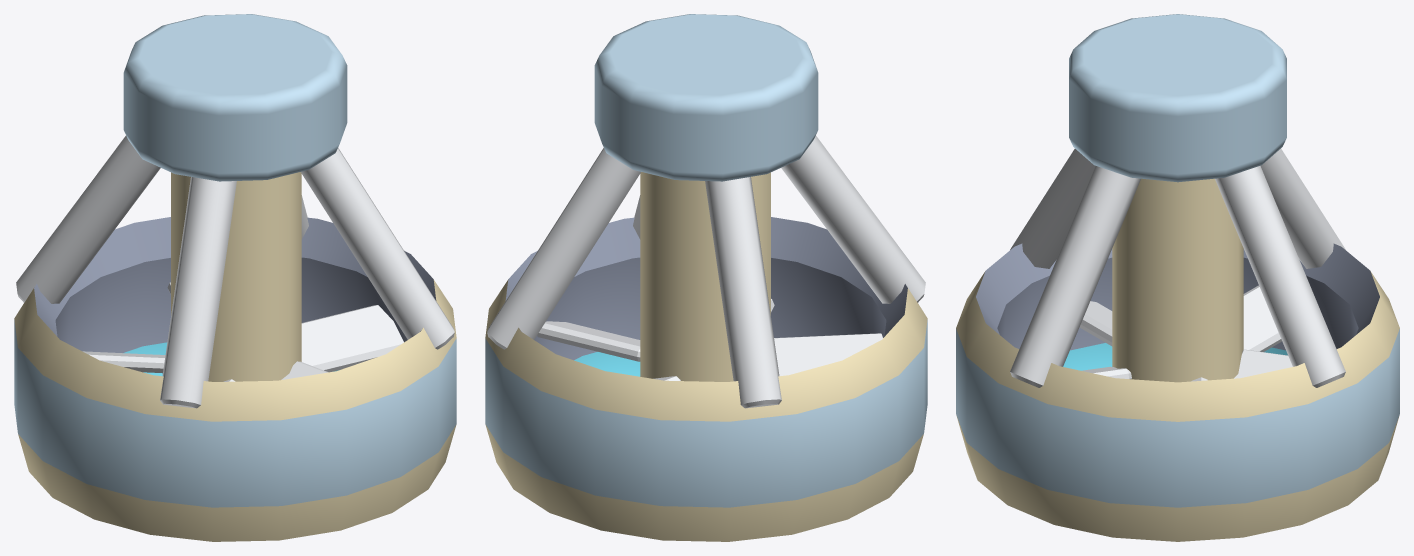
File: R4X_HoverEngine.fbx
The picture shows the model from 3 angles, left to right: view 1: azimuth 30°, elevation 25°; view 2: azimuth 150°, elevation 25°; view 3: azimuth 270°, elevation 25°; orthographic projection.
Parts seen in each view (by area): view 1: R4X_HoverEngine_Body, R4X_HoverEngine_Fan; view 2: R4X_HoverEngine_Body, R4X_HoverEngine_Fan; view 3: R4X_HoverEngine_Body, R4X_HoverEngine_Fan.
Part boxes in pixels (x1=…): R4X_HoverEngine_Body: x1=14, y1=14, x2=456, y2=541; R4X_HoverEngine_Fan: x1=82, y1=282, x2=403, y2=381; R4X_HoverEngine_Body: x1=485, y1=14, x2=927, y2=541; R4X_HoverEngine_Fan: x1=537, y1=299, x2=882, y2=380; R4X_HoverEngine_Body: x1=956, y1=14, x2=1399, y2=541; R4X_HoverEngine_Fan: x1=1079, y1=285, x2=1292, y2=381.
Bounding box in the file's own units: 0.516 × 0.52 × 0.516.
